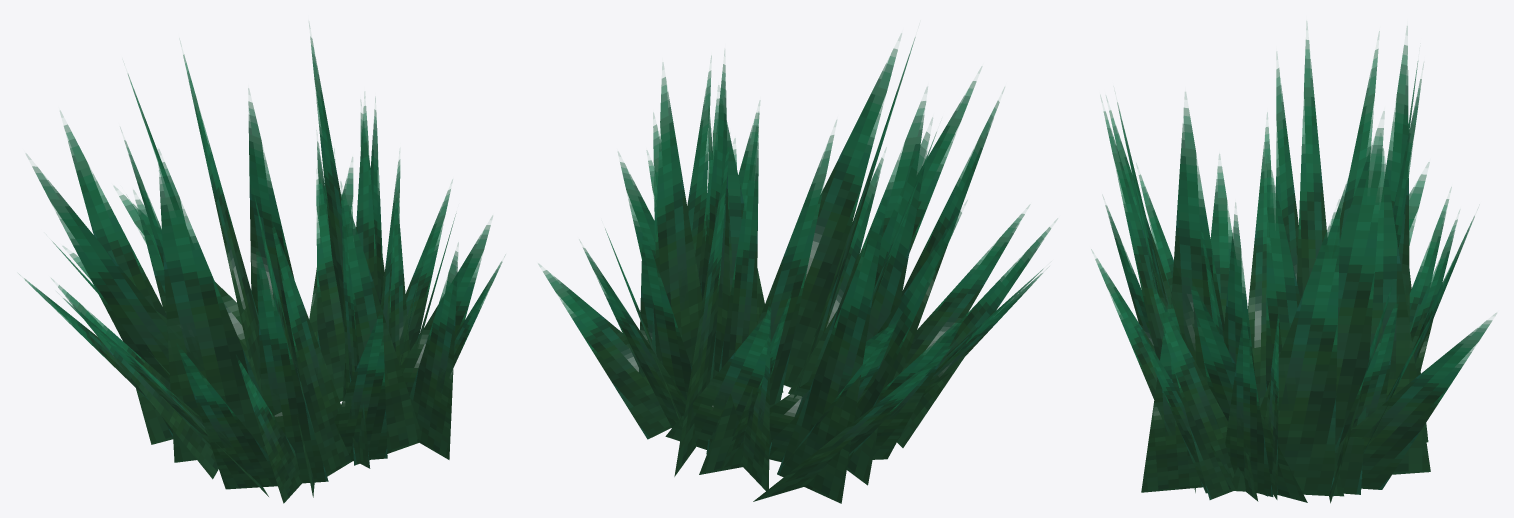
File: grassMushroom.glb
3 views of the same model, side by side, from view 1: azimuth 30°, elevation 25°; view 2: azimuth 150°, elevation 25°; view 3: azimuth 270°, elevation 25° (orthographic). The views are drawn at different scales.
Visible parts, largest first — view 1: Plane.007; view 2: Plane.007; view 3: Plane.007.
Boxes of the visible parts, x1,y1,x2,y2 form: Plane.007: [19, 24, 504, 503]; Plane.007: [538, 33, 1056, 503]; Plane.007: [1091, 26, 1496, 503].
Bounding box in the file's own units: 6.75 × 6.11 × 5.7.
Materials: 1 (1 with a texture image).
